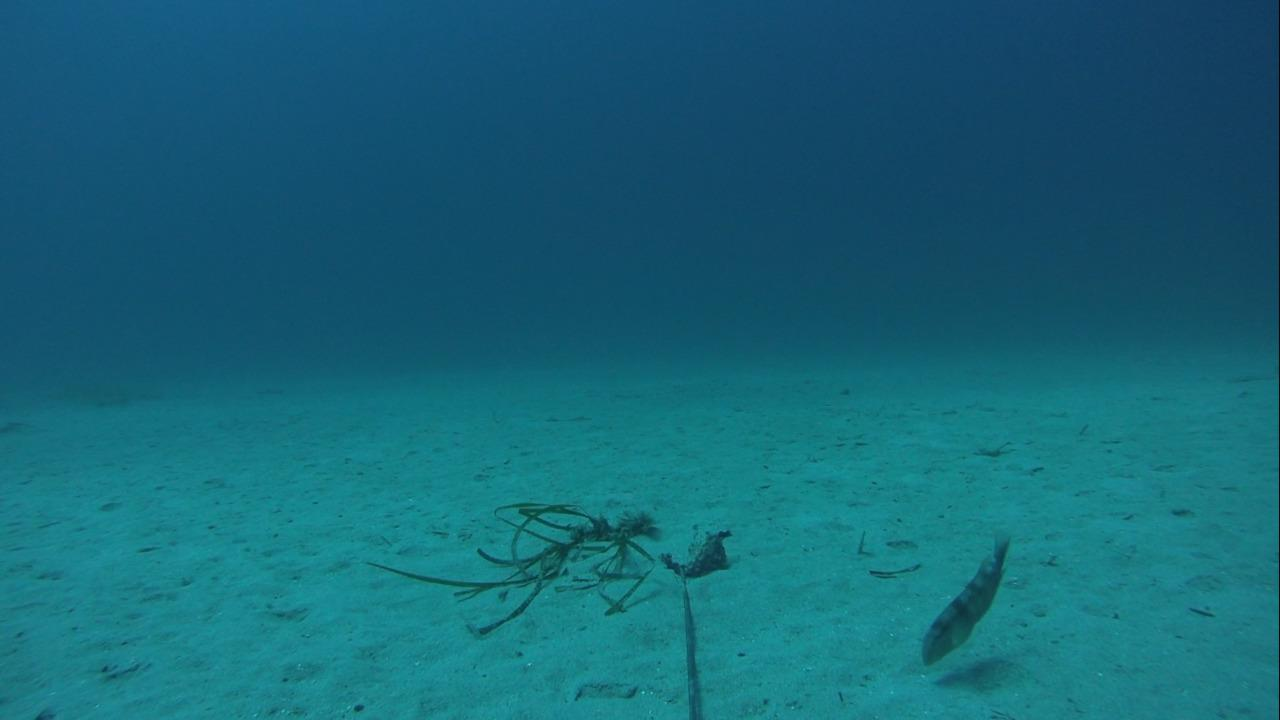raor: (916, 529, 1015, 667)
